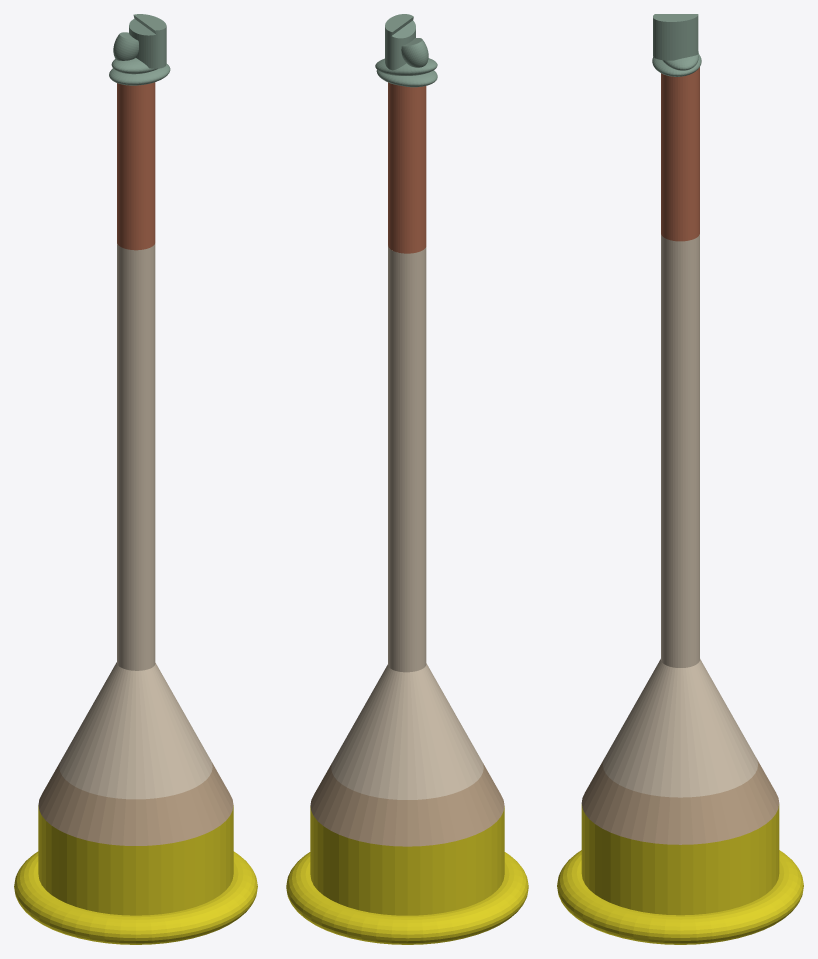
File: tejido.glb
The picture shows the model from 3 angles, left to right: view 1: azimuth 30°, elevation 25°; view 2: azimuth 150°, elevation 25°; view 3: azimuth 270°, elevation 25°; orthographic projection.
Parts seen in each view (by area): view 1: Mesh_Mesh_head_geo.001_lambert2SG.001; view 2: Mesh_Mesh_head_geo.001_lambert2SG.001; view 3: Mesh_Mesh_head_geo.001_lambert2SG.001.
Part boxes in pixels (left/top/right/bottom): Mesh_Mesh_head_geo.001_lambert2SG.001: left=14, top=14, right=257, bottom=944; Mesh_Mesh_head_geo.001_lambert2SG.001: left=286, top=14, right=528, bottom=944; Mesh_Mesh_head_geo.001_lambert2SG.001: left=557, top=14, right=803, bottom=944.
Size of the model in its own units: 0.035 by 0.1388 by 0.035.
